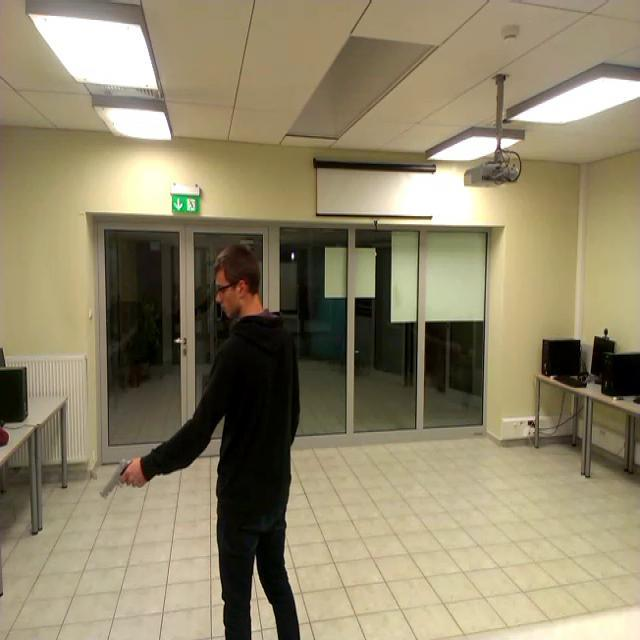Gun: (101, 458, 137, 498)
